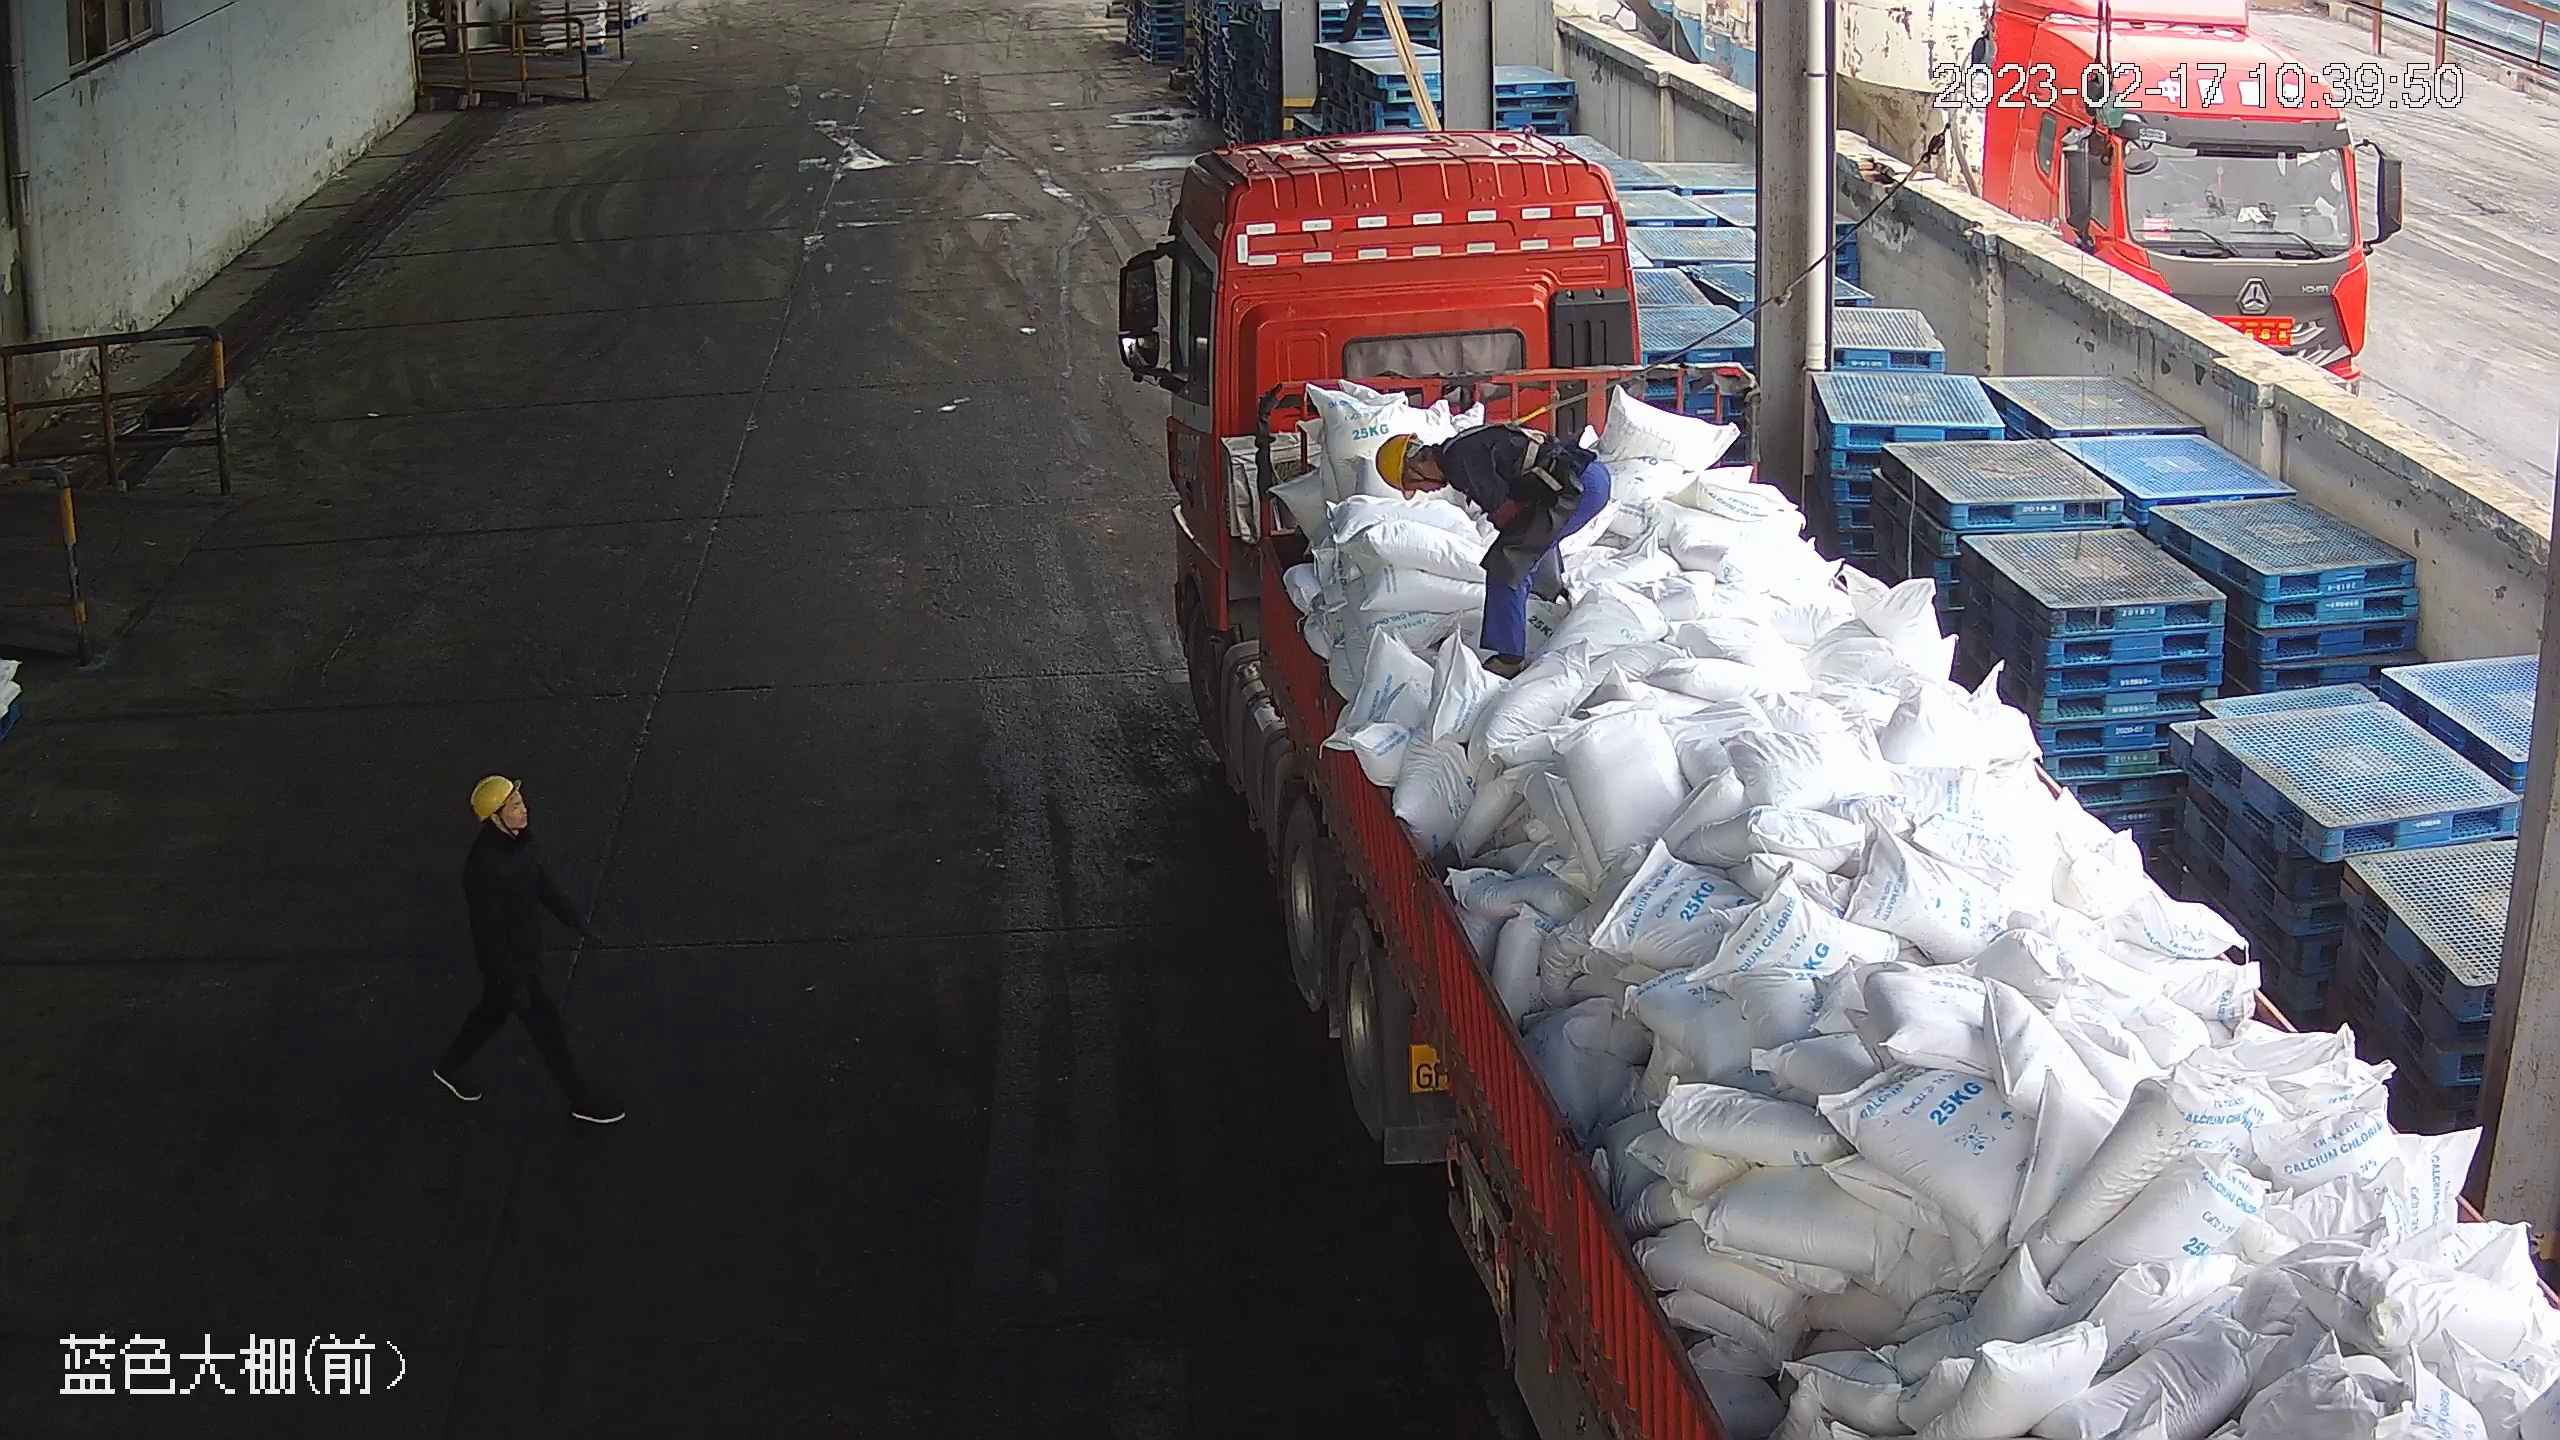belt: (1436, 411, 1555, 480)
head: (460, 772, 562, 896), (1372, 416, 1512, 506)
helmet: (1374, 431, 1415, 494), (468, 774, 520, 819)
people: (424, 770, 627, 1129), (1369, 414, 1616, 675)
truck: (1121, 123, 2558, 1439)
